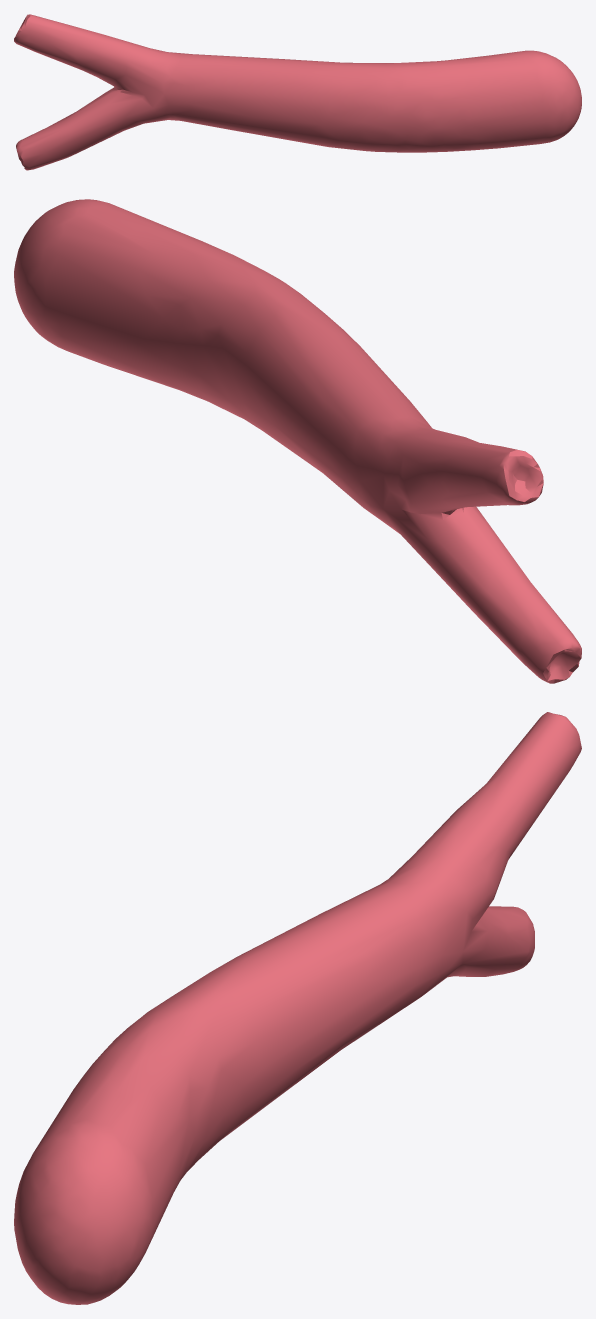
Rendered from fma14752.glb.
3 renders of one model, top to bottom at view 1: azimuth 30°, elevation 25°; view 2: azimuth 150°, elevation 25°; view 3: azimuth 270°, elevation 25°, orthographic. The views are drawn at different scales.
Parts seen in each view (by area): view 1: FMA14752; view 2: FMA14752; view 3: FMA14752.
Boxes of the visible parts, x1,y1,x2,y2 form: FMA14752: [14, 14, 581, 170]; FMA14752: [14, 199, 581, 683]; FMA14752: [14, 712, 581, 1304].
Bounding box in the file's own units: 0.0736 × 0.0225 × 0.0436.
